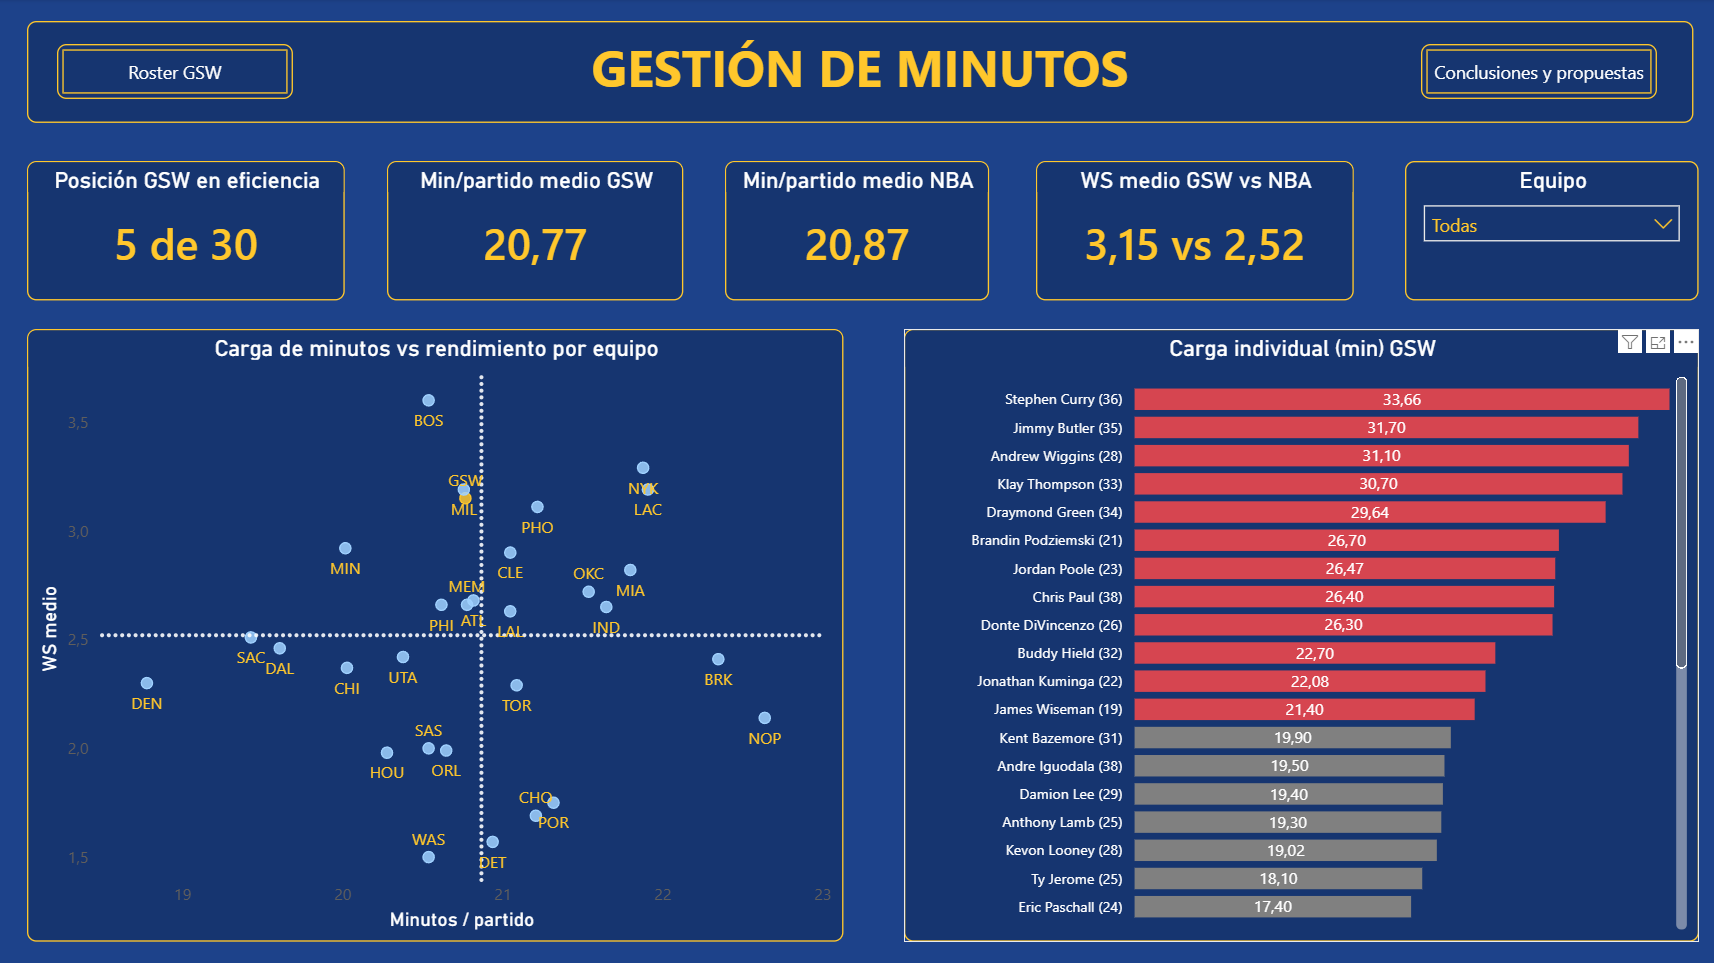

The page's visual inventory and layout, read from the dashboard file:
{"tool":"powerbi","page":{"name":"Gestión de minutos","canvas":[1280,720],"ordinal":3},"visuals":[{"type":"cardVisual","title":"Min/partido medio GSW","fields":{"Data":["pbi_carga_minutos_equipos.Min partido GSW"]},"box":[289.3,120.7,221.4,104.3],"z":0},{"type":"slicer","title":"Equipo","fields":{"Values":["pbi_carga_minutos_equipos.Equipo"]},"box":[1048.6,120.7,219.3,104.3],"z":1000},{"type":"cardVisual","title":"Min/partido medio NBA","fields":{"Data":["Avg(pbi_carga_minutos_equipos.Minutos/partido)"]},"box":[541.4,120.7,197.1,104.3],"z":2000},{"type":"scatterChart","title":"Carga de minutos vs rendimiento por equipo","fields":{"X":["Sum(pbi_carga_minutos_equipos.Minutos/partido)"],"Y":["Sum(pbi_carga_minutos_equipos.Ws medio)"],"Series":["pbi_carga_minutos_equipos.Equipo"]},"box":[20.7,246.4,609.3,457.1],"z":3000},{"type":"barChart","title":"Carga individual (min) GSW","fields":{"Y":["Avg(pbi_carga_minutos_gsw.Minutos/partido)"],"Category":["pbi_carga_minutos_gsw.Jugador_edad"]},"box":[675,246.4,593,457.1],"z":4000},{"type":"cardVisual","title":"WS medio GSW vs NBA","fields":{"Data":["pbi_carga_minutos_equipos.WS medio GSW vs Liga"]},"box":[773.6,120.7,237.1,104.3],"z":5000},{"type":"cardVisual","title":"Posición GSW en eficiencia","fields":{"Data":["pbi_carga_minutos_equipos.Ranking eficiencia GSW"]},"box":[20.7,120.7,237.1,104.3],"z":6000},{"type":"textbox","box":[20.7,16.4,1242.9,75.7],"z":7000},{"type":"pageNavigator","box":[43.3,33.6,176,41],"z":8000},{"type":"pageNavigator","box":[1060.7,33.6,176,41],"z":9000}]}

Visuals, with their boxes in screenshot pixels (x1, y1, x2, y2), scaled from the page's 1280x720 canvas onto the 1714x963 screenshot:
"Min/partido medio GSW" cardVisual: x1=387, y1=161, x2=684, y2=301
"Equipo" slicer: x1=1404, y1=161, x2=1698, y2=301
"Min/partido medio NBA" cardVisual: x1=725, y1=161, x2=989, y2=301
"Carga de minutos vs rendimiento por equipo" scatterChart: x1=28, y1=330, x2=844, y2=941
"Carga individual (min) GSW" barChart: x1=904, y1=330, x2=1698, y2=941
"WS medio GSW vs NBA" cardVisual: x1=1036, y1=161, x2=1353, y2=301
"Posición GSW en eficiencia" cardVisual: x1=28, y1=161, x2=345, y2=301
textbox: x1=28, y1=22, x2=1692, y2=123
pageNavigator: x1=58, y1=45, x2=294, y2=100
pageNavigator: x1=1420, y1=45, x2=1656, y2=100
